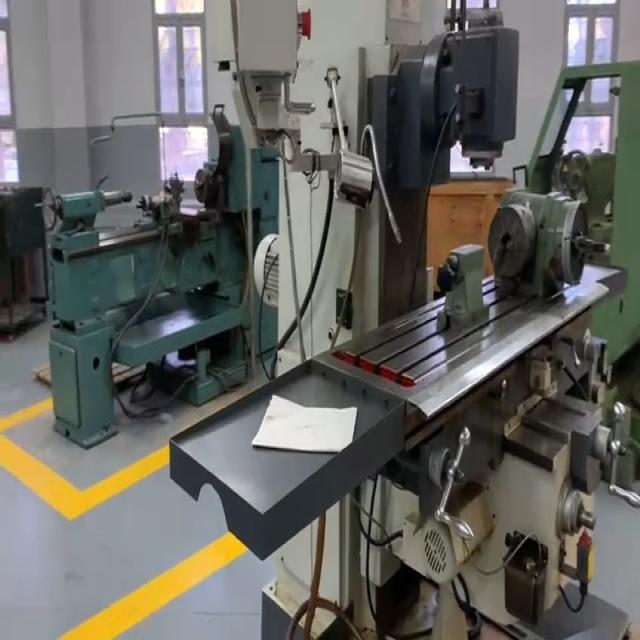fraiseuse: (170, 0, 630, 638)
